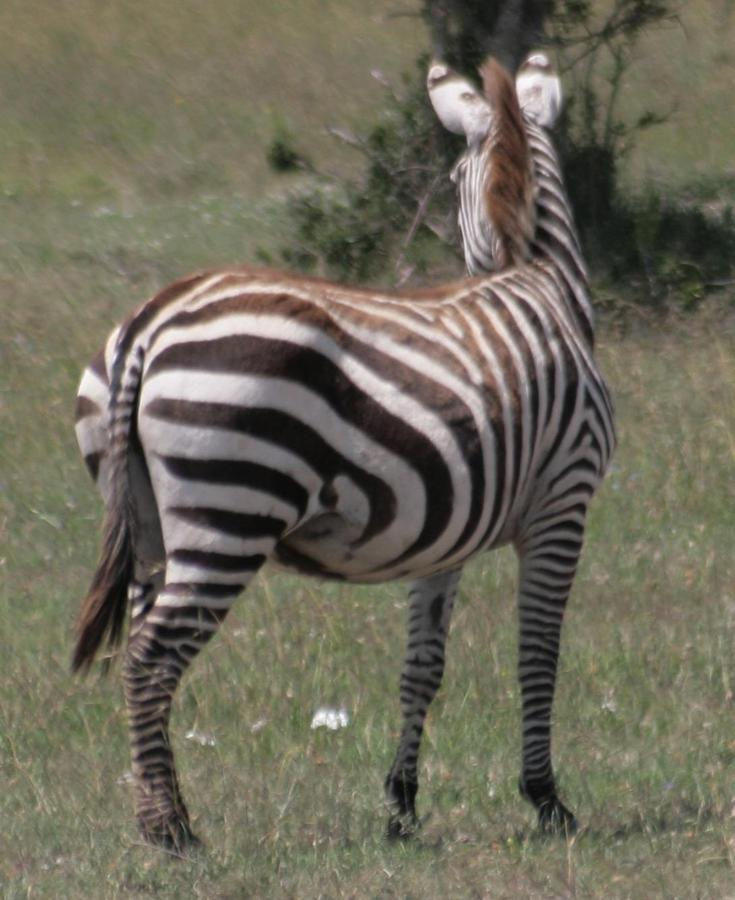zebra_plains: (138, 250, 643, 614)
